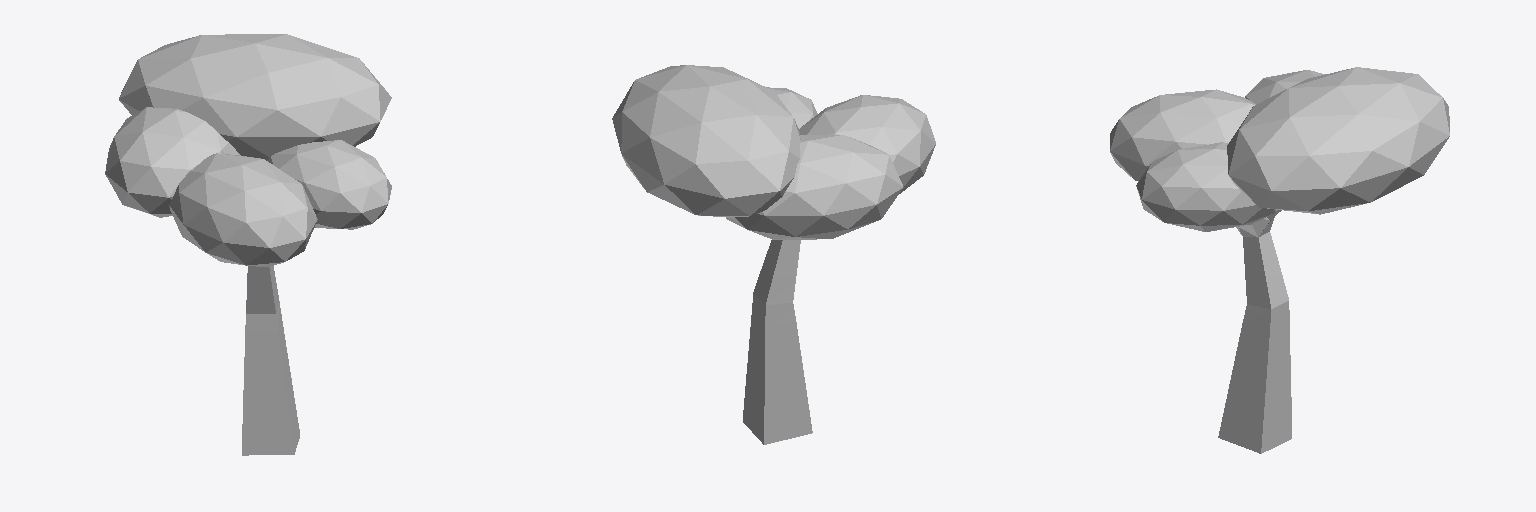
Rendered from tree2.obj.
3 renders of one model, left to right at view 1: azimuth 30°, elevation 25°; view 2: azimuth 150°, elevation 25°; view 3: azimuth 270°, elevation 25°, orthographic.
Parts seen in each view (by area): view 1: Icosphere.004_Icosphere.005, Icosphere.007_Icosphere.008, Icosphere.005_Icosphere.006, tree2_Plane.000, Icosphere.006_Icosphere.007; view 2: Icosphere.004_Icosphere.005, Icosphere.005_Icosphere.006, tree2_Plane.000, Icosphere.007_Icosphere.008, Icosphere.006_Icosphere.007; view 3: Icosphere.004_Icosphere.005, tree2_Plane.000, Icosphere.006_Icosphere.007, Icosphere.007_Icosphere.008, Icosphere.005_Icosphere.006.
Boxes of the visible parts, box(x1,y1,x2,y2) form: Icosphere.004_Icosphere.005: box(119, 34, 391, 160); Icosphere.007_Icosphere.008: box(169, 153, 317, 266); Icosphere.005_Icosphere.006: box(105, 107, 240, 217); tree2_Plane.000: box(242, 227, 315, 455); Icosphere.006_Icosphere.007: box(267, 140, 391, 229); Icosphere.004_Icosphere.005: box(612, 65, 800, 217); Icosphere.005_Icosphere.006: box(726, 135, 902, 239); tree2_Plane.000: box(743, 240, 812, 444); Icosphere.007_Icosphere.008: box(799, 95, 935, 193); Icosphere.006_Icosphere.007: box(767, 87, 817, 128); Icosphere.004_Icosphere.005: box(1227, 67, 1449, 214); tree2_Plane.000: box(1218, 210, 1291, 453); Icosphere.006_Icosphere.007: box(1136, 142, 1277, 231); Icosphere.007_Icosphere.008: box(1110, 89, 1255, 181); Icosphere.005_Icosphere.006: box(1245, 70, 1324, 104).
Size of the model in its own units: 26.7 by 35.6 by 29.83.